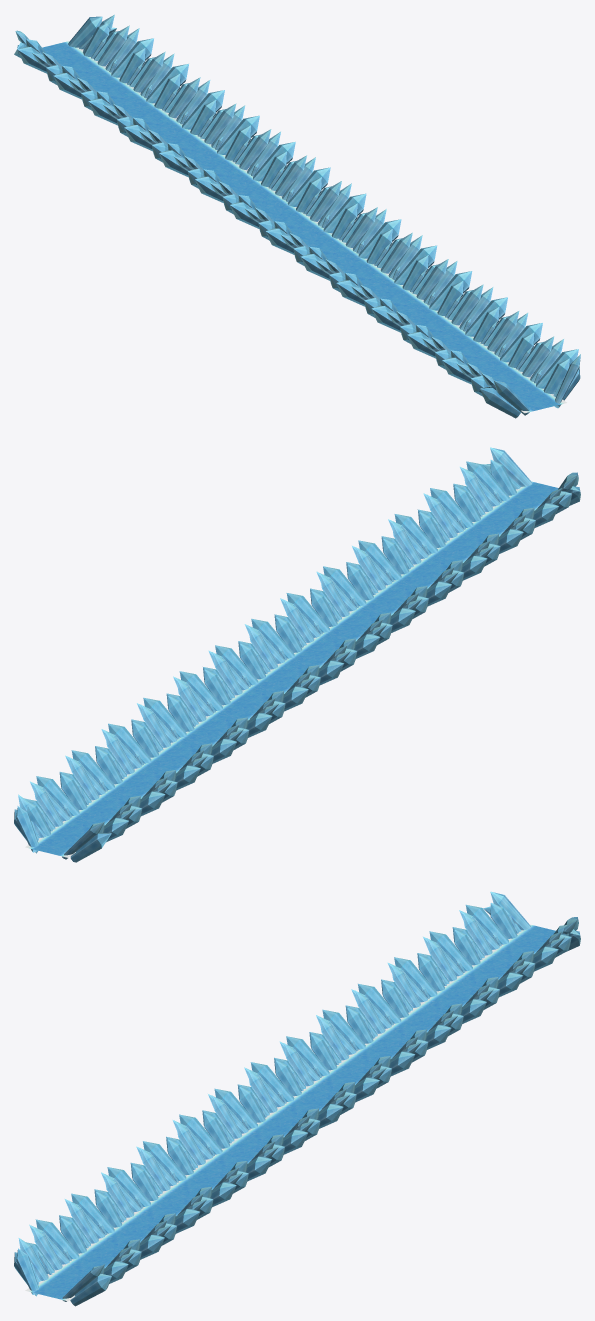
Rendered from sorrow_map2.fbx.
3 views of the same model, one above another, from view 1: azimuth 30°, elevation 25°; view 2: azimuth 150°, elevation 25°; view 3: azimuth 330°, elevation 25° (orthographic).
Parts seen in each view (by area): view 1: sorrowmap.006; view 2: sorrowmap.006; view 3: sorrowmap.006.
Part boxes in pixels (x1,y1,x2,y2): sorrowmap.006: [14, 14, 580, 418]; sorrowmap.006: [14, 447, 580, 862]; sorrowmap.006: [14, 891, 580, 1306].
Bounding box in the file's own units: 1867 × 753 × 14000.
